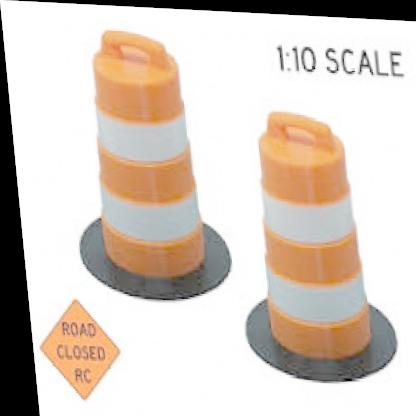obstacle: (85, 31, 209, 286), (249, 114, 373, 357)
